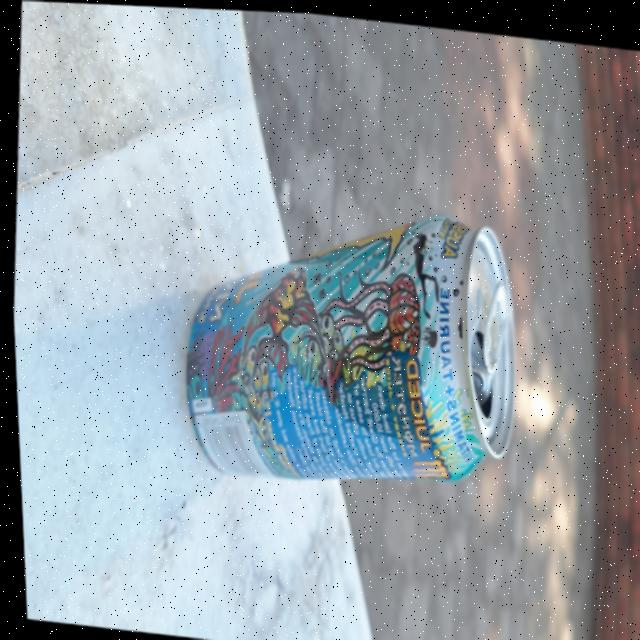Monster Aussie Lemonade: (170, 180, 526, 512)
